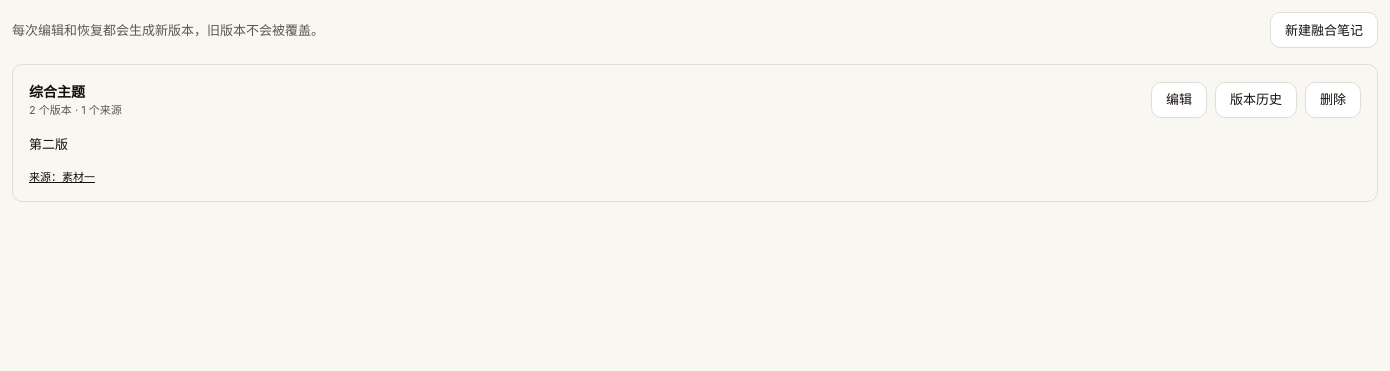
Test: MergedNotesTab › 显示当前版本来源并允许查看版本历史
Expected: the text "第二版" is shown, [29,136,68,152]
What coordinates should you click on to do the following:
click the button "版本历史"
I would click on:
 (1256, 100)
Its box is [1215,82,1297,118].
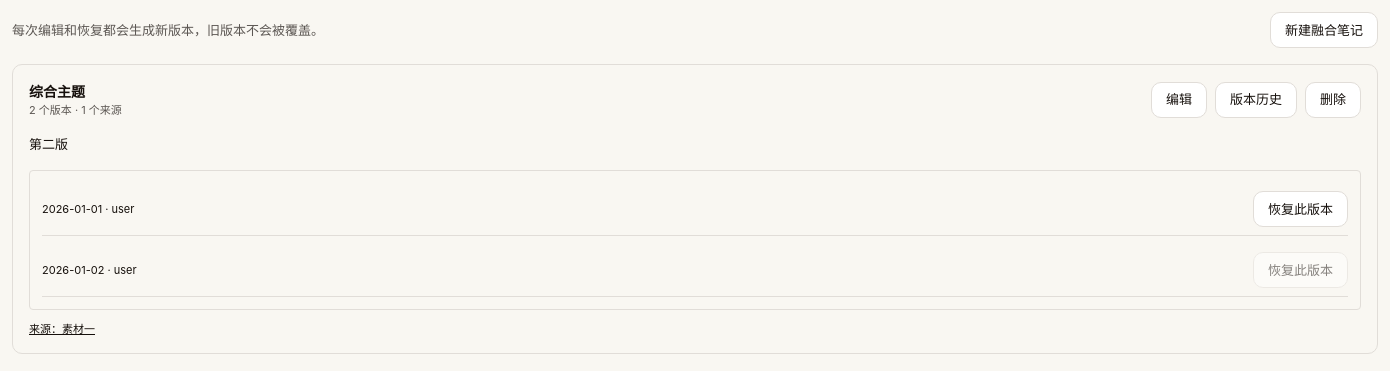
Expected: the element named "综合主题版本历史" is shown, [29,170,1361,310]
